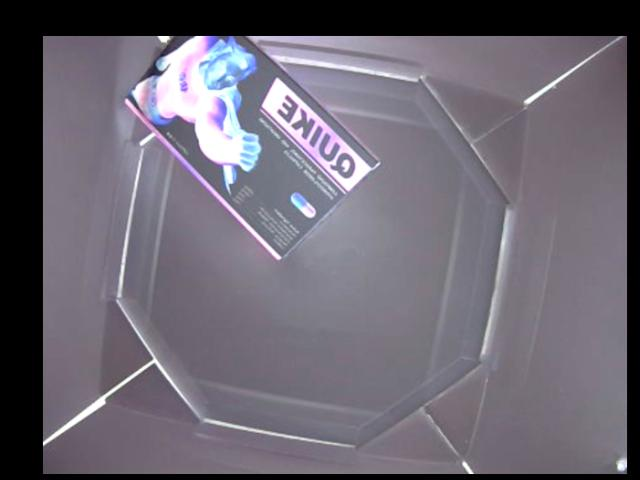Medicine: (118, 36, 382, 260)
